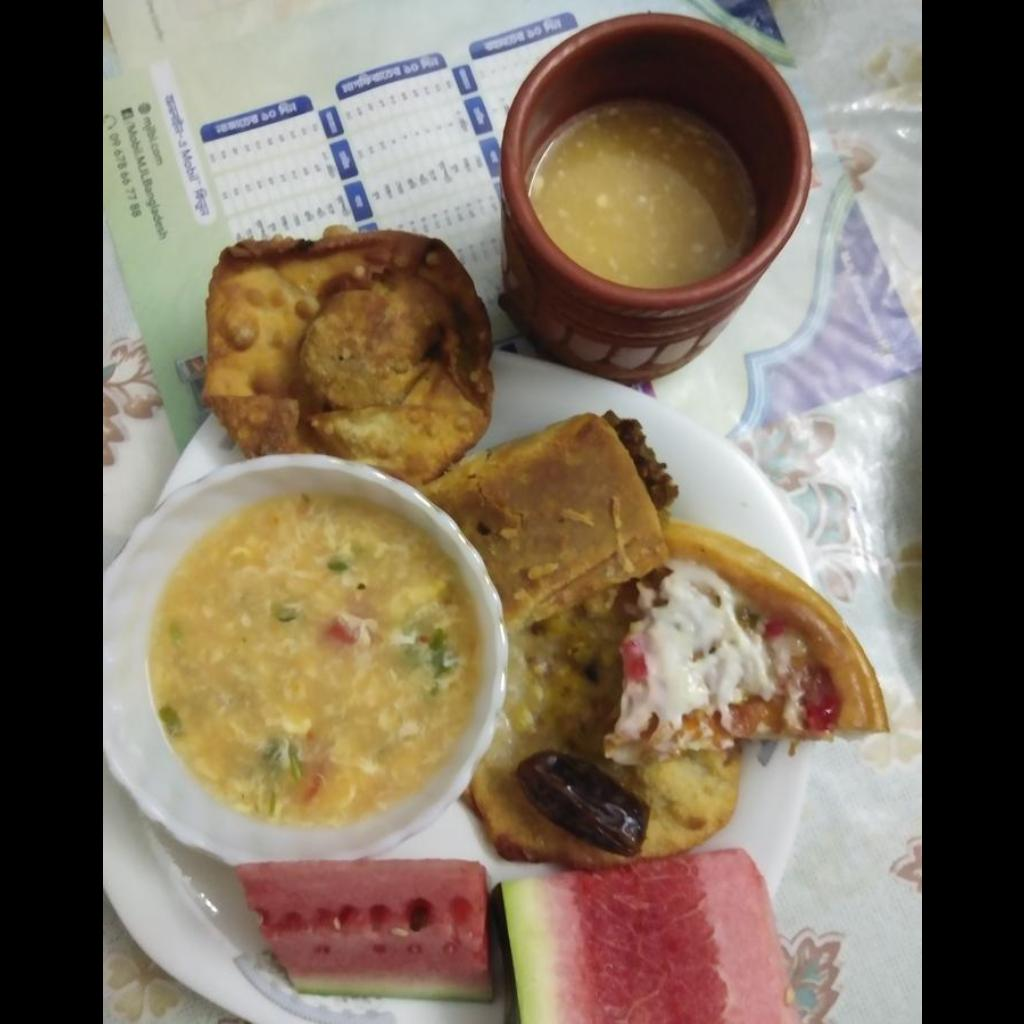chomchom: (203, 228, 491, 486)
daal: (148, 497, 476, 823)
dates: (507, 753, 661, 861)
juice: (533, 93, 754, 282)
sweets: (423, 412, 886, 869)
watermelon: (239, 859, 792, 1023)
